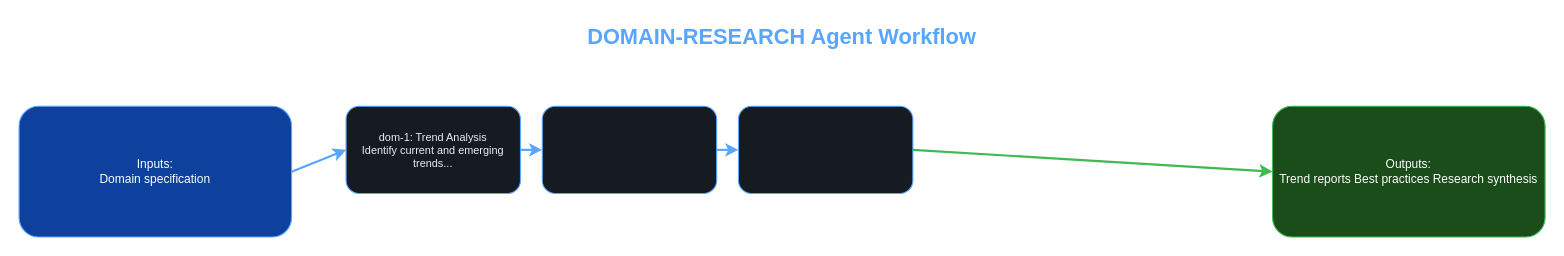
The diagram is 1564 pixels wide and 256 high, and some of its shapes have lost their labels. The centre of each missing label's shape, as x and y in pixels:
dom-2: Best Practices Compile industry best practices...: the point at 629,149
dom-3: Research Synthesis Synthesize findings into recommendations...: the point at 825,149
